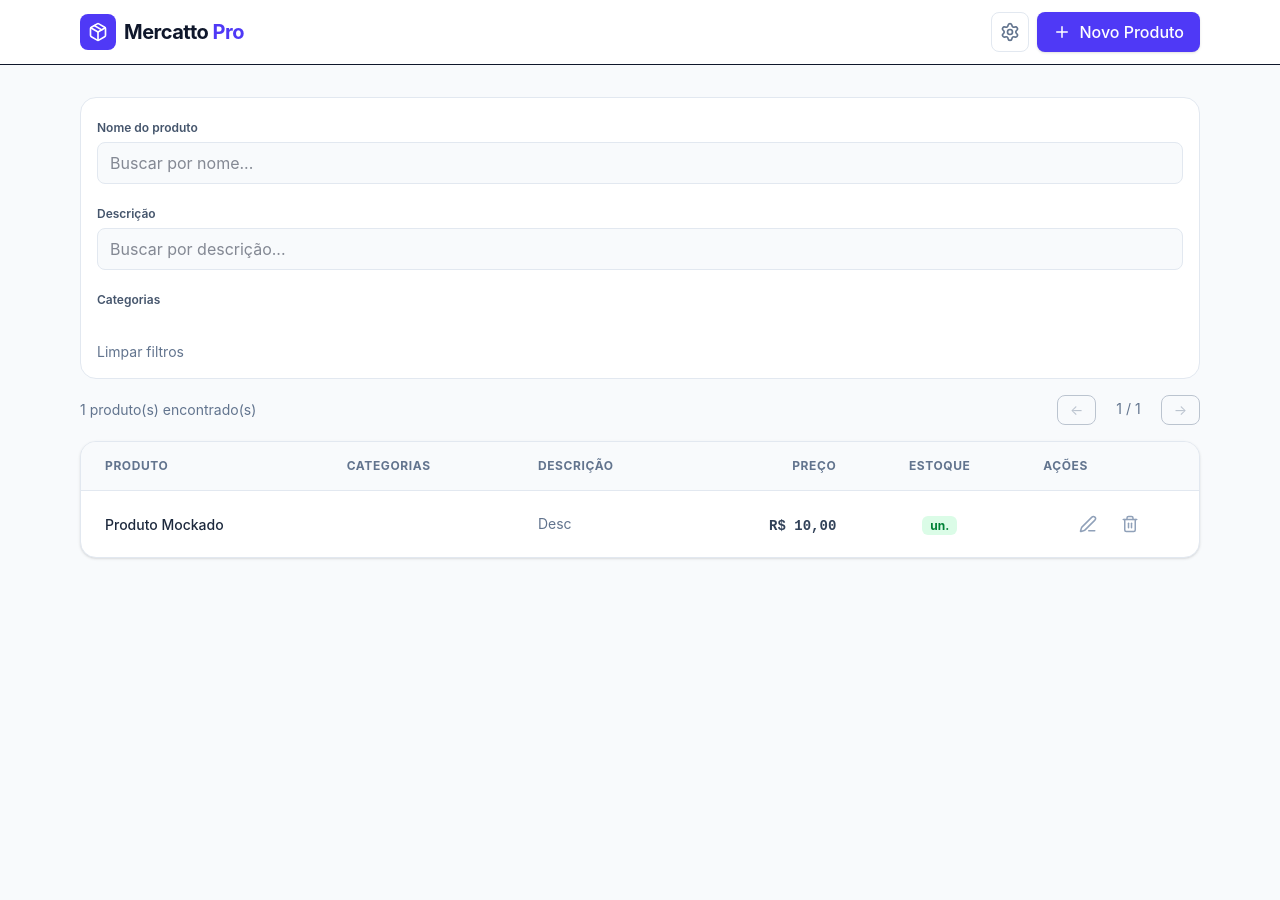
Test: Página Principal (Page) › deve abrir o CategoryModal através do botão de configuração
Click the button titled "Gerir Categorias": (1010, 32) [991,12,1029,52]
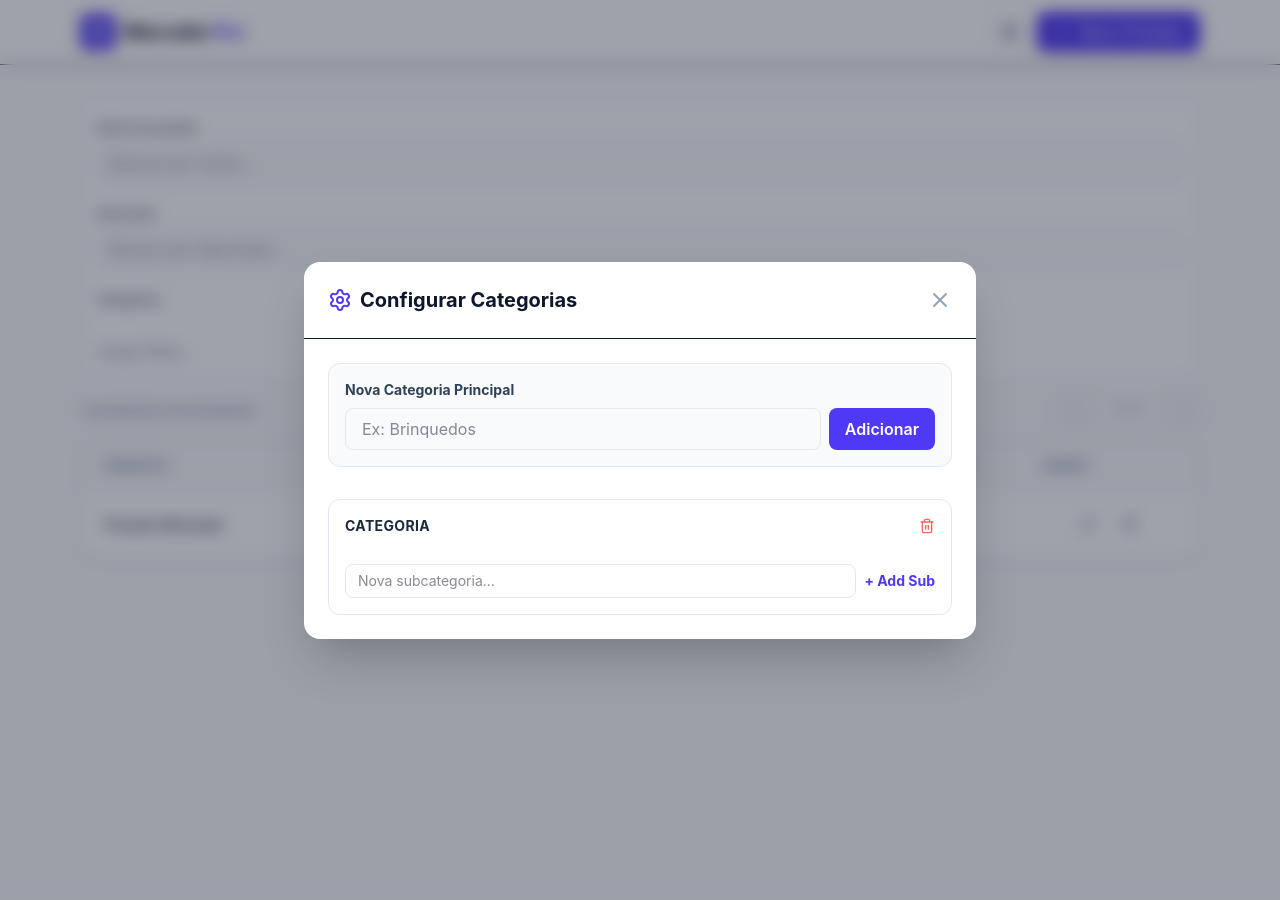
Now the heading "Configurar Categorias" is shown, box [328,286,577,314]
